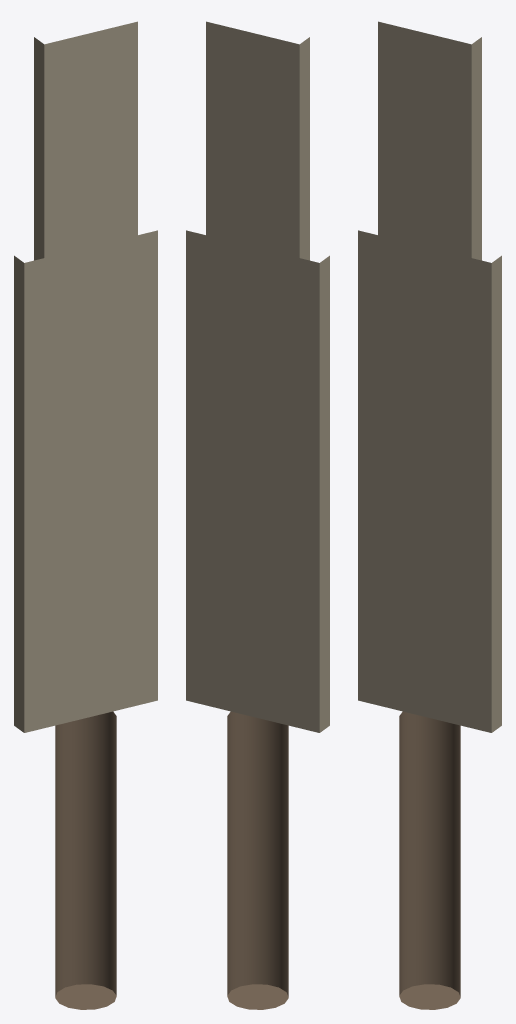
Rendered from cracked_cleaver_static.glb.
The picture shows the model from 3 angles, left to right: view 1: azimuth 30°, elevation 25°; view 2: azimuth 150°, elevation 25°; view 3: azimuth 330°, elevation 25°; orthographic projection.
Visible parts, largest first — view 1: cracked_cleaver; view 2: cracked_cleaver; view 3: cracked_cleaver.
Boxes of the visible parts, bbox=[...] form: cracked_cleaver: bbox=[14, 21, 157, 1009]; cracked_cleaver: bbox=[186, 21, 329, 1009]; cracked_cleaver: bbox=[358, 21, 501, 1009].
Size of the model in its own units: 0.09 by 0.6228 by 0.0351.
